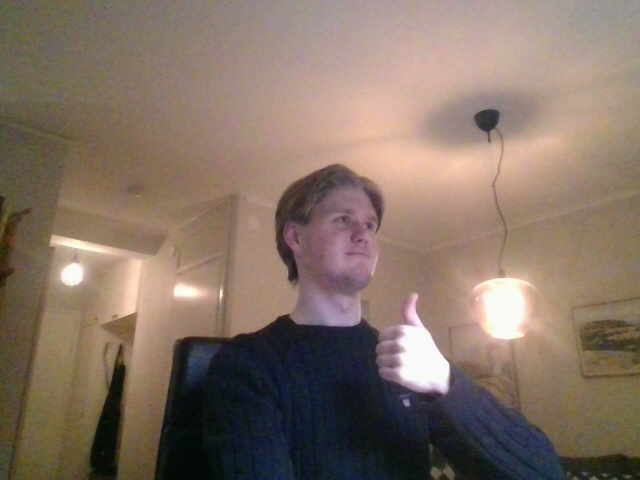ThumbsUp: (374, 292, 443, 395)
